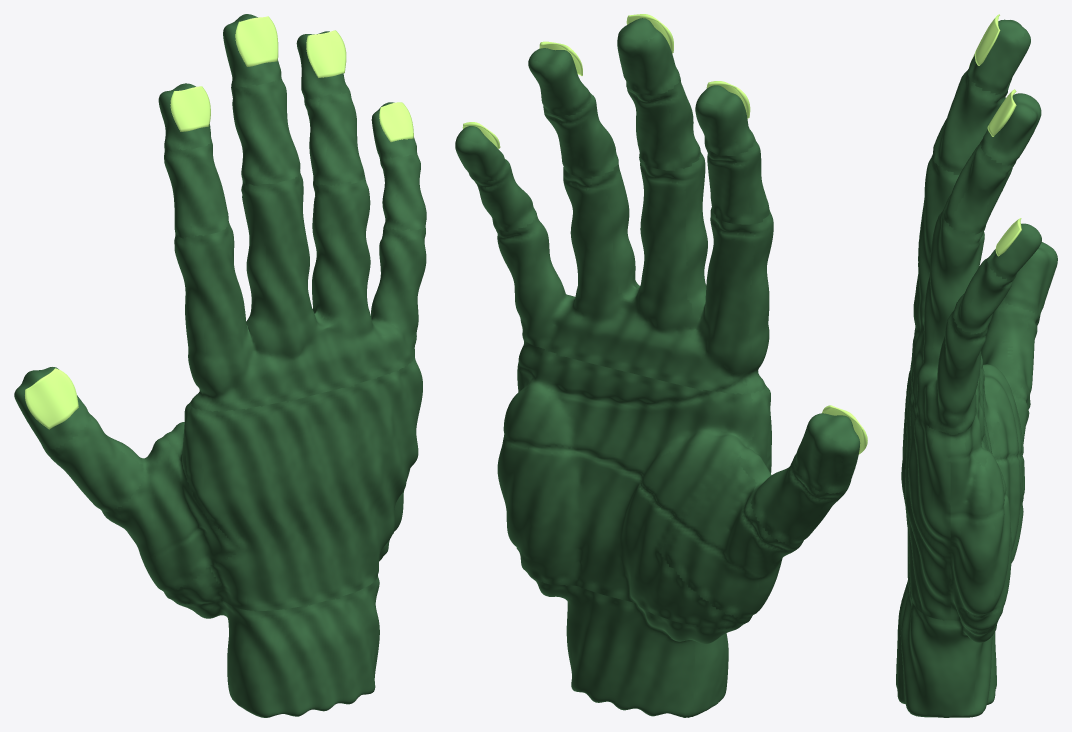
Rendered from family-01.glb.
3 views of the same model, side by side, from view 1: azimuth 30°, elevation 25°; view 2: azimuth 150°, elevation 25°; view 3: azimuth 270°, elevation 25° (orthographic). The views are drawn at different scales.
Parts seen in each view (by area): view 1: knuckles__knuckles_sculpt, back_of_hand__back_of_hand_sculpt, middle_sections__middle_sections_sculpt, wrist__wrist_sculpt, fingertips__fingertips_sculpt, palm__palm_sculpt, nails__thumb_claw, nails__middle_claw, nails__ring_claw, nails__index_claw, nails__pinky_claw; view 2: knuckles__knuckles_sculpt, palm__palm_sculpt, middle_sections__middle_sections_sculpt, wrist__wrist_sculpt, fingertips__fingertips_sculpt; view 3: palm__palm_sculpt, knuckles__knuckles_sculpt, middle_sections__middle_sections_sculpt, wrist__wrist_sculpt, back_of_hand__back_of_hand_sculpt, fingertips__fingertips_sculpt, nails__middle_claw, nails__ring_claw, nails__pinky_claw.
Part boxes in pixels (left/top/right/bottom): knuckles__knuckles_sculpt: left=101, top=173, right=426, bottom=593; back_of_hand__back_of_hand_sculpt: left=185, top=356, right=422, bottom=611; middle_sections__middle_sections_sculpt: left=44, top=79, right=426, bottom=512; wrist__wrist_sculpt: left=175, top=557, right=382, bottom=717; fingertips__fingertips_sculpt: left=14, top=14, right=417, bottom=450; palm__palm_sculpt: left=164, top=401, right=410, bottom=604; nails__thumb_claw: left=25, top=368, right=78, bottom=429; nails__middle_claw: left=235, top=16, right=278, bottom=66; nails__ring_claw: left=306, top=30, right=346, bottom=77; nails__index_claw: left=170, top=86, right=210, bottom=131; nails__pinky_claw: left=379, top=102, right=413, bottom=142; knuckles__knuckles_sculpt: left=493, top=152, right=803, bottom=618; palm__palm_sculpt: left=497, top=340, right=769, bottom=628; middle_sections__middle_sections_sculpt: left=469, top=74, right=848, bottom=545; wrist__wrist_sculpt: left=528, top=574, right=740, bottom=717; fingertips__fingertips_sculpt: left=455, top=18, right=860, bottom=493; palm__palm_sculpt: left=949, top=354, right=1023, bottom=632; knuckles__knuckles_sculpt: left=911, top=155, right=1030, bottom=501; middle_sections__middle_sections_sculpt: left=932, top=70, right=1040, bottom=394; wrist__wrist_sculpt: left=896, top=580, right=997, bottom=717; back_of_hand__back_of_hand_sculpt: left=901, top=363, right=950, bottom=620; fingertips__fingertips_sculpt: left=967, top=19, right=1057, bottom=315; nails__middle_claw: left=975, top=14, right=1000, bottom=65; nails__ring_claw: left=987, top=89, right=1016, bottom=136; nails__pinky_claw: left=995, top=218, right=1021, bottom=256.
Size of the model in its own units: 0.1317 by 0.2177 by 0.0484.
2 materials, 1 textured.
